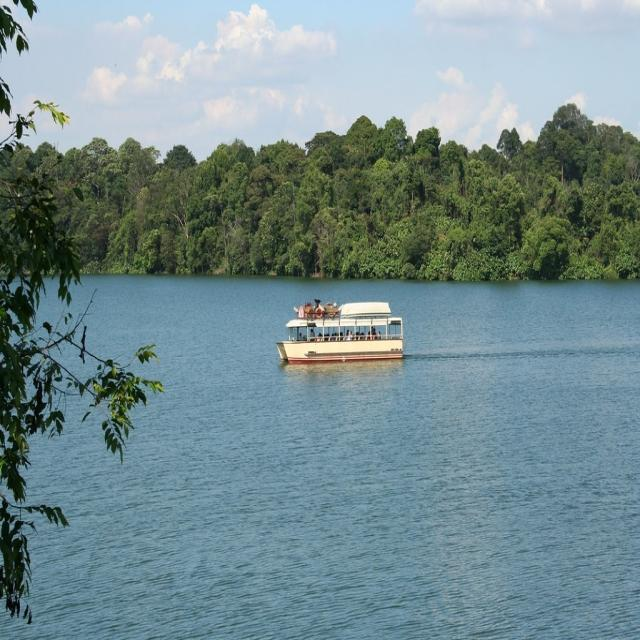boat: (272, 304, 408, 368)
